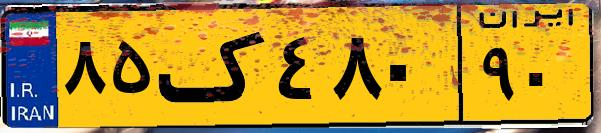0: (385, 28, 445, 110), (525, 38, 570, 115)
4: (270, 28, 330, 110)
5: (110, 28, 158, 98)
8: (330, 28, 385, 110), (57, 26, 110, 100)
9: (475, 38, 525, 113)
ک: (158, 12, 270, 120)
